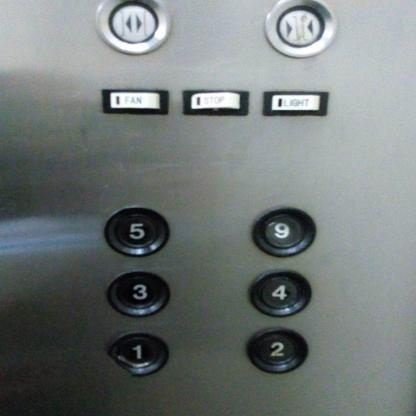1: (105, 328, 171, 380)
2: (243, 325, 311, 375)
3: (103, 268, 173, 319)
4: (247, 267, 314, 318)
5: (102, 204, 170, 258)
9: (250, 206, 318, 258)
close: (260, 0, 341, 62)
open: (91, 0, 174, 58)
switch: (96, 85, 172, 117), (178, 87, 253, 118), (259, 87, 331, 118)
